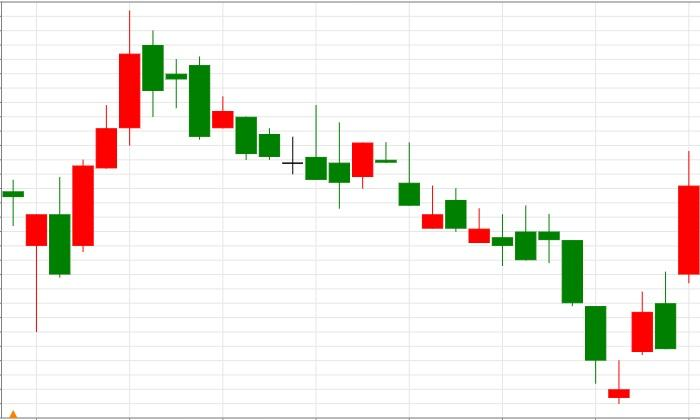inverse_hammer_rise: (142, 30, 327, 180)
